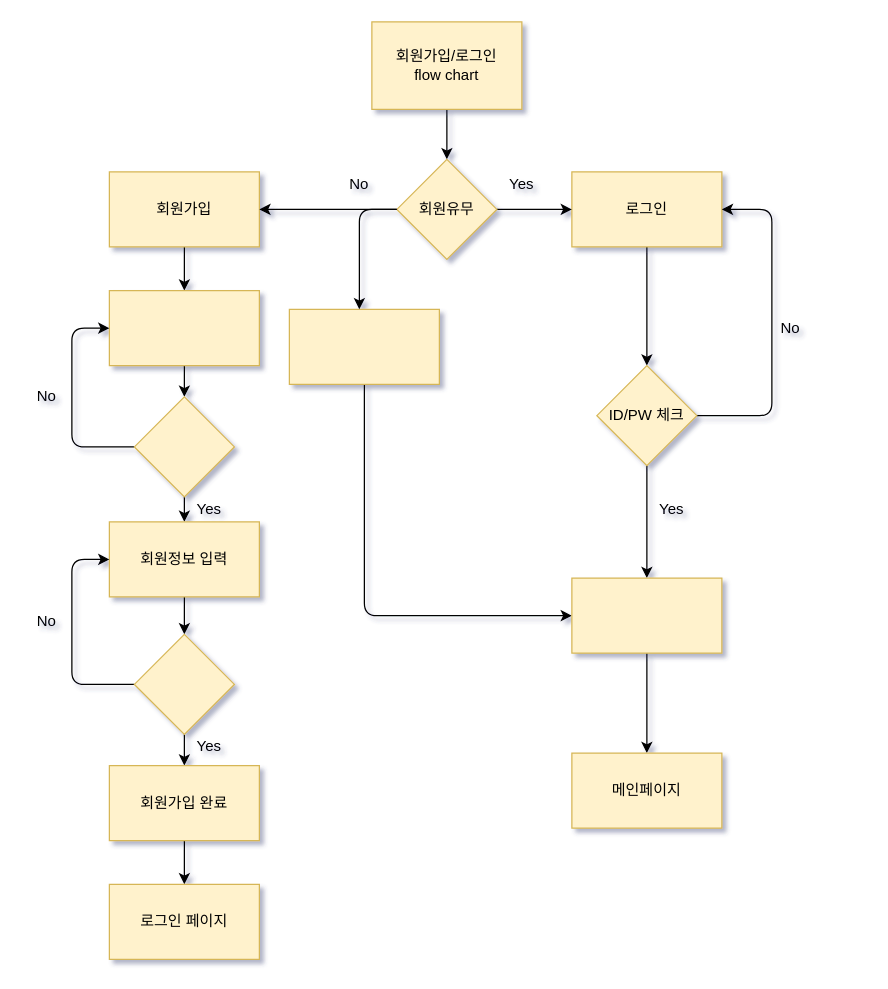
Some shapes in this 888 by 989 pixel diagram are drawn without their labels. Each missing label, with the centre of its shape:
"token 발급" belongs at point 646,615.
"소셜로그인" belongs at point 363,346.
"유효성 검사" belongs at point 183,683.
"이메일인증" belongs at point 183,327.
"인증번호" belongs at point 183,446.
